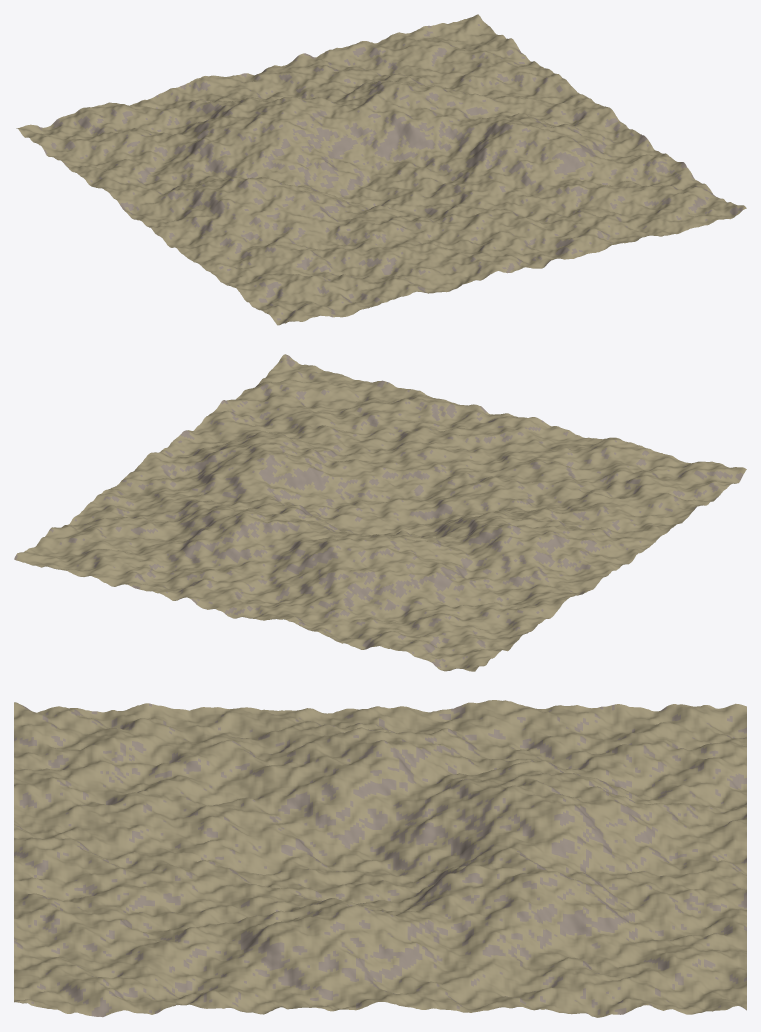
File: far.glb
3 views of the same model, one above another, from view 1: azimuth 30°, elevation 25°; view 2: azimuth 150°, elevation 25°; view 3: azimuth 270°, elevation 25° (orthographic). The views are drawn at different scales.
Visible parts, largest first — view 1: far; view 2: far; view 3: far.
Part boxes in pixels (x1,y1,x2,y2): far: [16, 14, 746, 325]; far: [14, 354, 746, 671]; far: [14, 700, 746, 1017].
Bounding box in the file's own units: 4000 × 379 × 4080.
